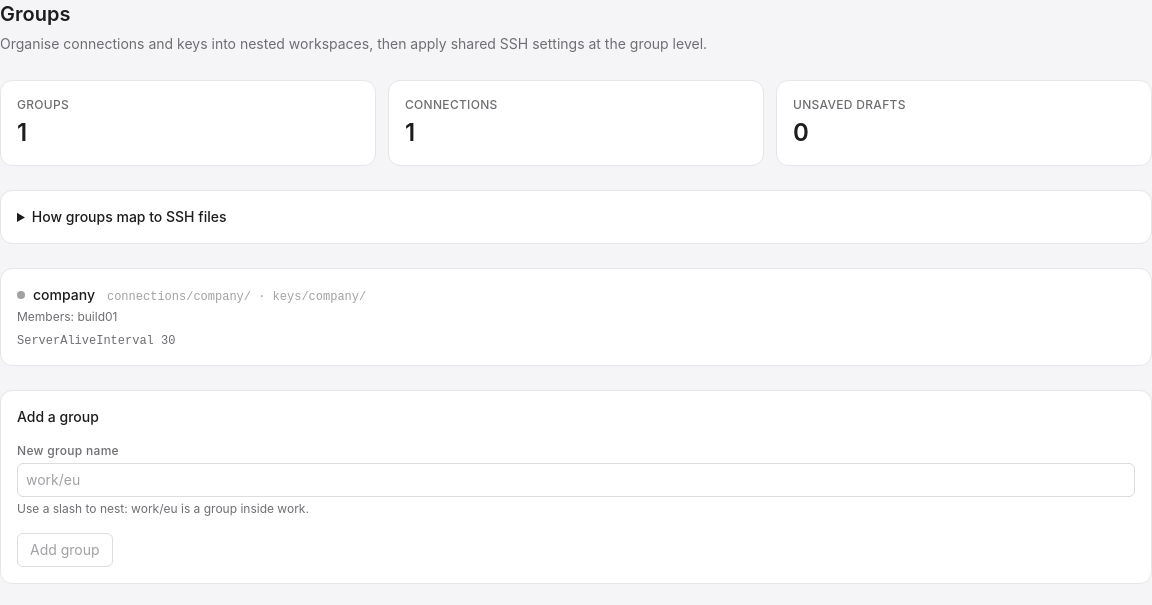
Test case: GroupsPanel › refuses an empty rename
Click the heading "company" at (56, 295), box [17, 285, 95, 305]
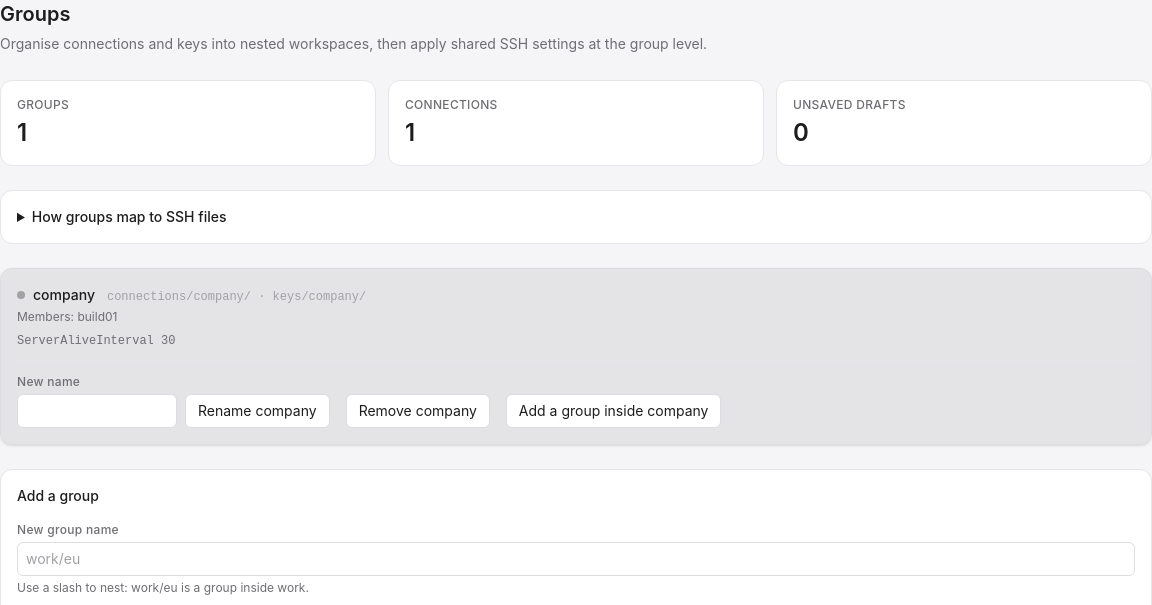
Click the button "Rename company" at (257, 411), box [185, 394, 330, 428]
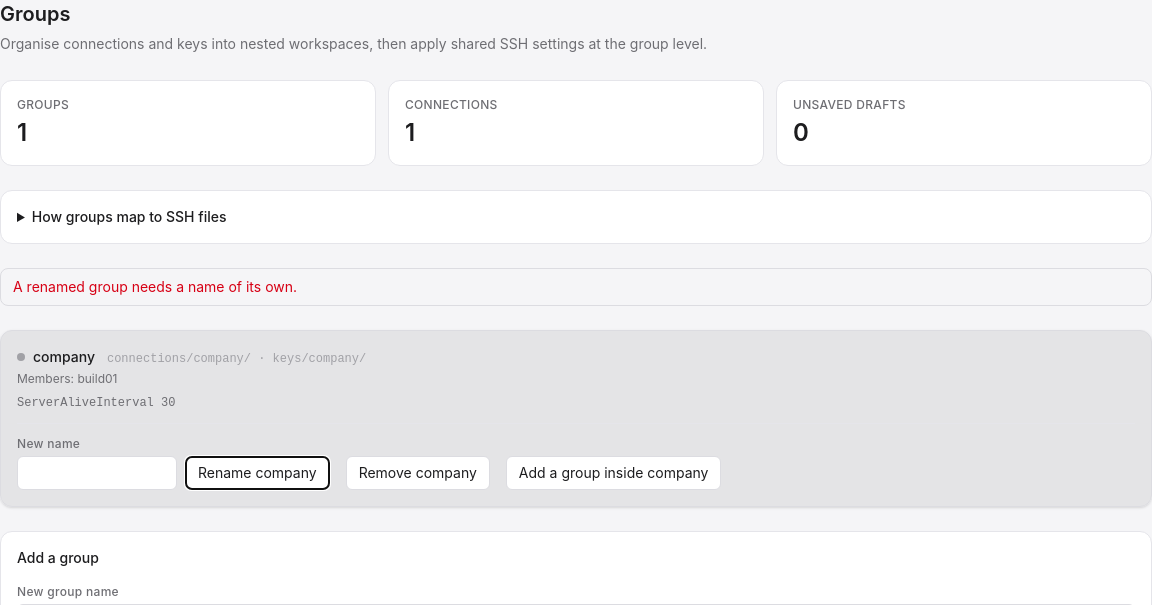
Expected: the message shows "needs a name of its own", [13, 278, 297, 295]
